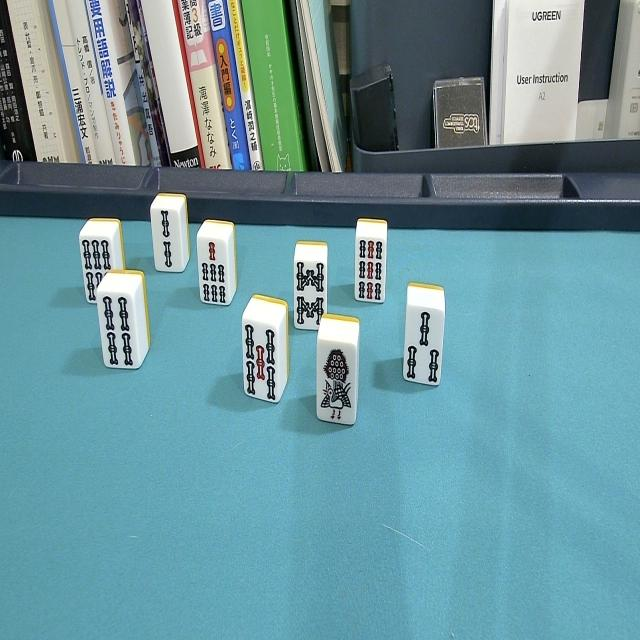1_sou: (314, 313, 361, 434)
2_sou: (149, 195, 191, 281)
3_sou: (401, 280, 447, 394)
4_sou: (92, 272, 153, 378)
5_sou: (240, 295, 289, 409)
6_sou: (78, 216, 125, 310)
7_sou: (195, 218, 238, 311)
8_sou: (292, 237, 330, 335)
9_sou: (352, 215, 391, 309)
